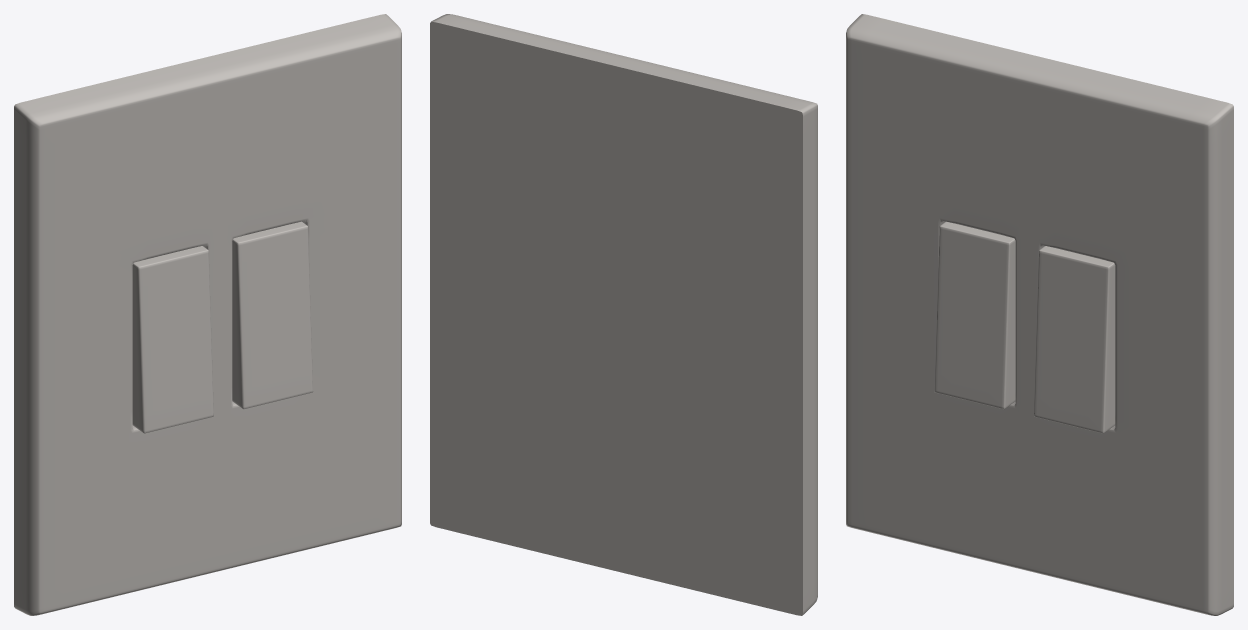
The picture shows the model from 3 angles, left to right: view 1: azimuth 30°, elevation 25°; view 2: azimuth 150°, elevation 25°; view 3: azimuth 330°, elevation 25°; orthographic projection.
Visible parts, largest first — view 1: double_light_switch; view 2: double_light_switch; view 3: double_light_switch.
Boxes of the visible parts, x1,y1,x2,y2 form: double_light_switch: (14, 14, 401, 615); double_light_switch: (430, 14, 817, 615); double_light_switch: (846, 14, 1233, 615).
Size of the model in its own units: 0.085 by 0.11 by 0.0112.
1 material, 1 textured.
